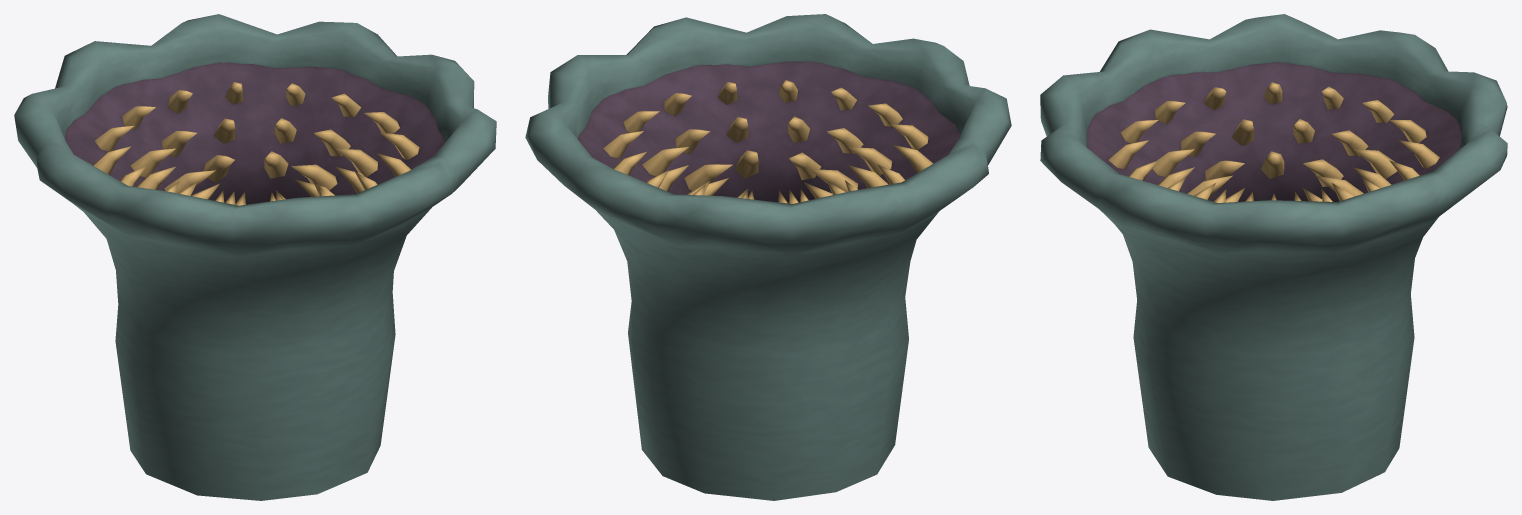
The model's file is cpart_mouth_sucker.glb.
The picture shows the model from 3 angles, left to right: view 1: azimuth 30°, elevation 25°; view 2: azimuth 150°, elevation 25°; view 3: azimuth 270°, elevation 25°; orthographic projection.
Visible parts, largest first — view 1: MouthSucker, MouthSuckerDisc, MouthSuckerTeeth; view 2: MouthSucker, MouthSuckerDisc, MouthSuckerTeeth; view 3: MouthSucker, MouthSuckerDisc, MouthSuckerTeeth.
Boxes of the visible parts, x1=… form: MouthSucker: x1=14, y1=14, x2=496, y2=500; MouthSuckerDisc: x1=65, y1=62, x2=445, y2=204; MouthSuckerTeeth: x1=93, y1=82, x2=419, y2=205; MouthSucker: x1=525, y1=14, x2=1011, y2=500; MouthSuckerDisc: x1=578, y1=61, x2=960, y2=203; MouthSuckerTeeth: x1=603, y1=80, x2=933, y2=203; MouthSucker: x1=1040, y1=14, x2=1507, y2=500; MouthSuckerDisc: x1=1087, y1=62, x2=1461, y2=201; MouthSuckerTeeth: x1=1108, y1=82, x2=1439, y2=202.
Bounding box in the file's own units: 0.1131 × 0.0874 × 0.1093.
Materials: 3 (3 with a texture image).
